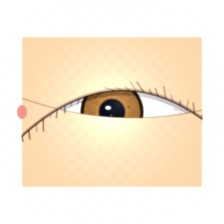pinguecula_lesion: (27, 103, 61, 129)
